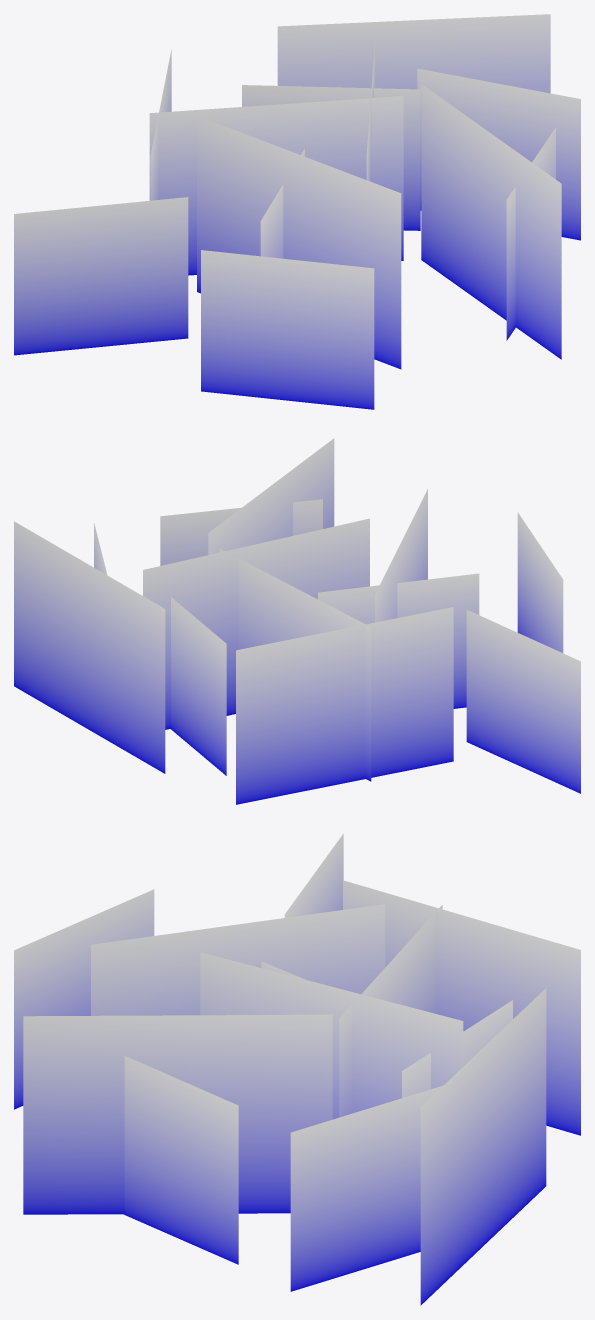
The model's file is Grass_Mesh_2.fbx.
The picture shows the model from 3 angles, top to bottom: view 1: azimuth 30°, elevation 25°; view 2: azimuth 150°, elevation 25°; view 3: azimuth 270°, elevation 25°; orthographic projection. The views are drawn at different scales.
Parts seen in each view (by area): view 1: Plane.008; view 2: Plane.008; view 3: Plane.008.
Boxes of the visible parts, <box> form: Plane.008: <box>14,14,580,409</box>; Plane.008: <box>14,438,580,804</box>; Plane.008: <box>14,833,580,1305</box>.
Size of the model in its own units: 1.09 by 0.3248 by 0.8351.
